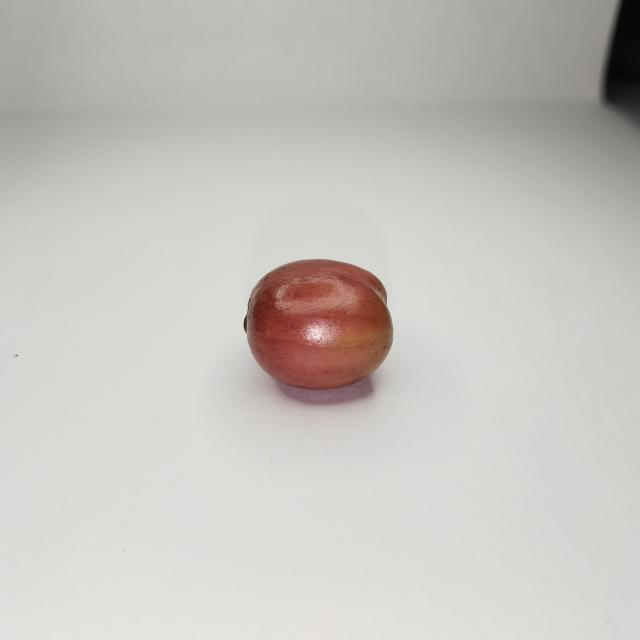Sano: (243, 260, 392, 391)
